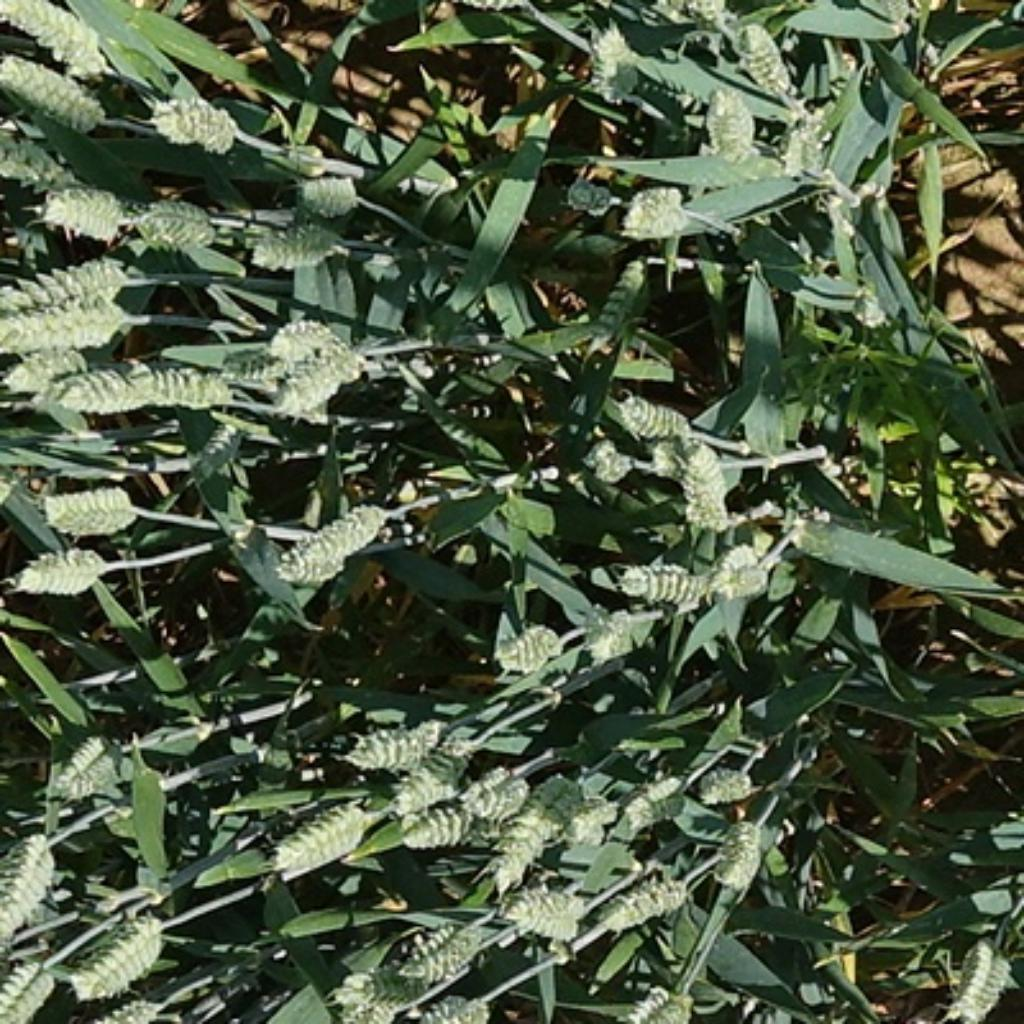0-0: (12, 350, 261, 424), (268, 314, 381, 424), (276, 488, 391, 588), (2, 296, 140, 363), (389, 768, 491, 857), (263, 793, 373, 875), (64, 912, 164, 998), (0, 0, 111, 77), (384, 913, 491, 988), (663, 419, 734, 532), (332, 714, 453, 778), (2, 250, 125, 312), (2, 824, 61, 952), (473, 803, 568, 878), (591, 867, 693, 936), (611, 550, 721, 611), (2, 58, 104, 122), (448, 760, 535, 832), (128, 192, 220, 258), (238, 215, 340, 273), (499, 878, 591, 942), (486, 614, 570, 680), (950, 942, 1017, 1024), (587, 259, 657, 337), (31, 186, 126, 243), (616, 179, 698, 243), (576, 599, 655, 665), (40, 484, 140, 535), (56, 732, 132, 799), (151, 94, 240, 151), (696, 87, 762, 163), (581, 17, 642, 99), (17, 548, 106, 603), (609, 395, 699, 449), (777, 107, 838, 184), (736, 23, 792, 99), (558, 798, 627, 855), (711, 819, 766, 890), (711, 540, 773, 601), (2, 957, 58, 1024), (619, 979, 701, 1024), (624, 773, 686, 829), (343, 972, 442, 1006), (404, 990, 499, 1024), (196, 417, 253, 473), (296, 172, 364, 217), (558, 174, 616, 220), (583, 432, 632, 481), (696, 767, 758, 805)
